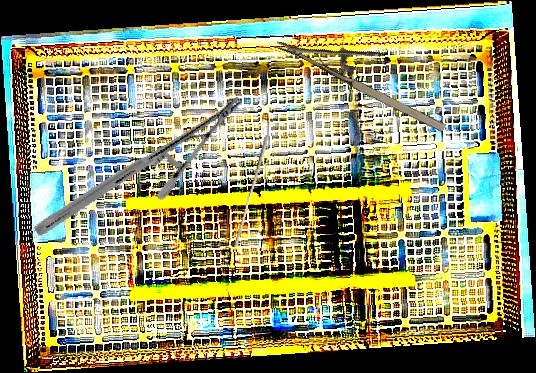Needle Holder: (31, 40, 246, 292), (274, 6, 462, 138)
Pusher: (233, 133, 269, 249)
